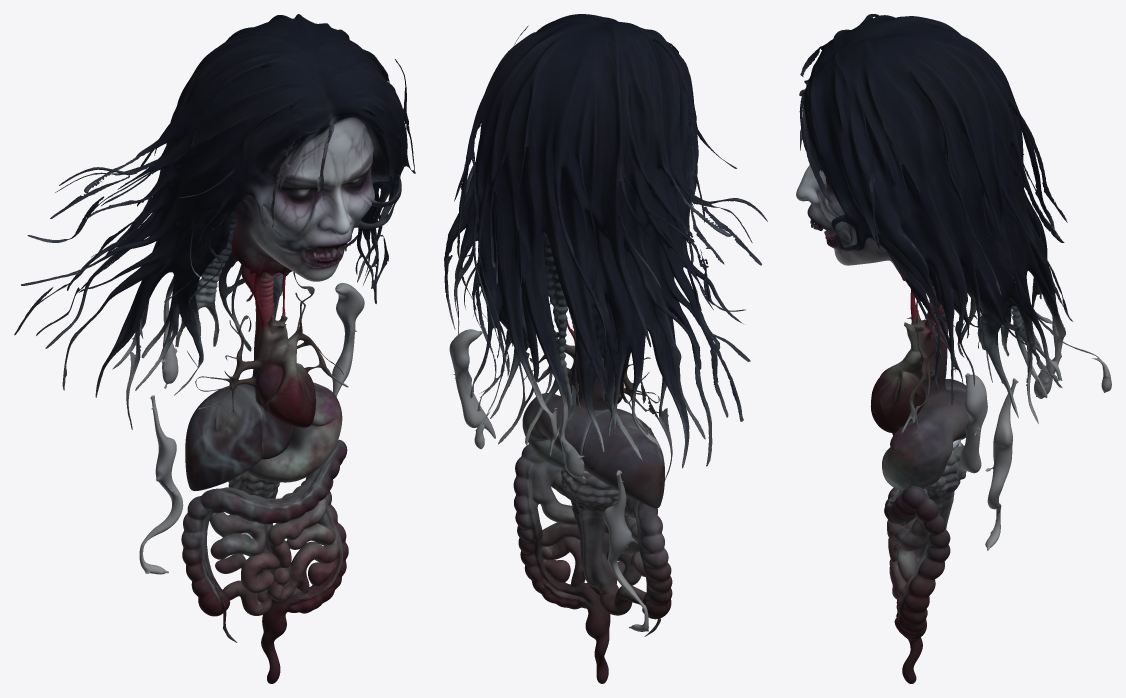
The model's file is ma-lai-rut-ruoc.glb.
3 renders of one model, left to right at view 1: azimuth 30°, elevation 25°; view 2: azimuth 150°, elevation 25°; view 3: azimuth 270°, elevation 25°, orthographic.
Visible parts, largest first — view 1: tripo_node_9e51e049-4e3e-4773-83bf-fa388beaea8e; view 2: tripo_node_9e51e049-4e3e-4773-83bf-fa388beaea8e; view 3: tripo_node_9e51e049-4e3e-4773-83bf-fa388beaea8e.
Part boxes in pixels (bbox=[...]): tripo_node_9e51e049-4e3e-4773-83bf-fa388beaea8e: bbox=[14, 14, 415, 683]; tripo_node_9e51e049-4e3e-4773-83bf-fa388beaea8e: bbox=[444, 14, 767, 683]; tripo_node_9e51e049-4e3e-4773-83bf-fa388beaea8e: bbox=[796, 14, 1111, 683].
Bounding box in the file's own units: 0.5262 × 0.9827 × 0.4245.
Materials: 1 (1 with a texture image).
